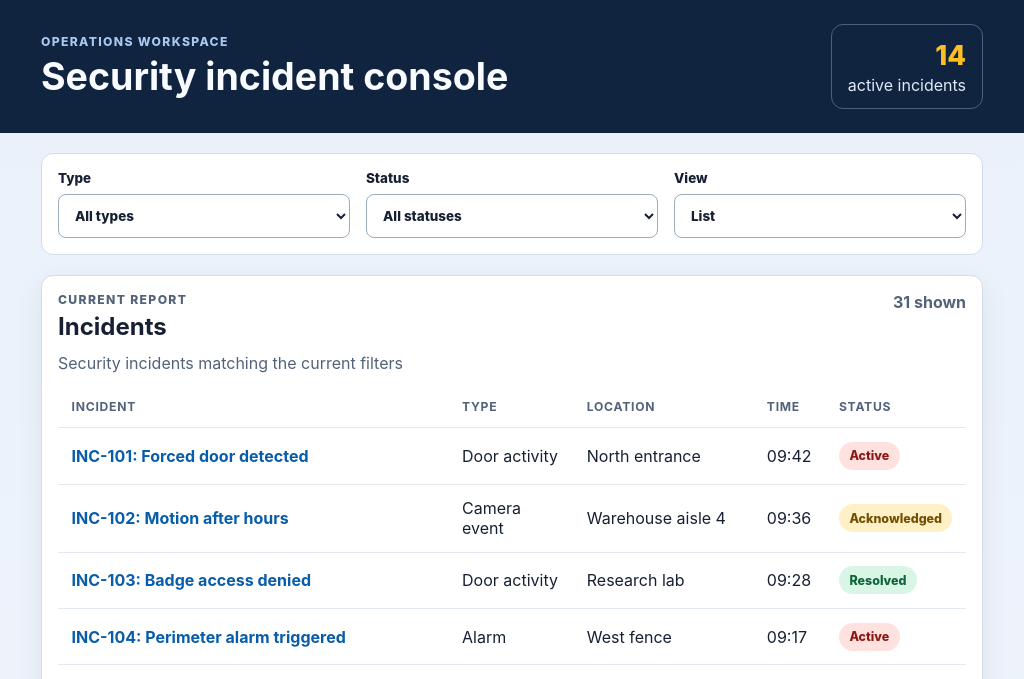
Test case: App › opens incident details and acknowledges an active incident
What coordinates should you click on to do the following:
click the button "INC-101: Forced door detected"
I would click on:
 (190, 456)
Its box is [72,446,308,466].
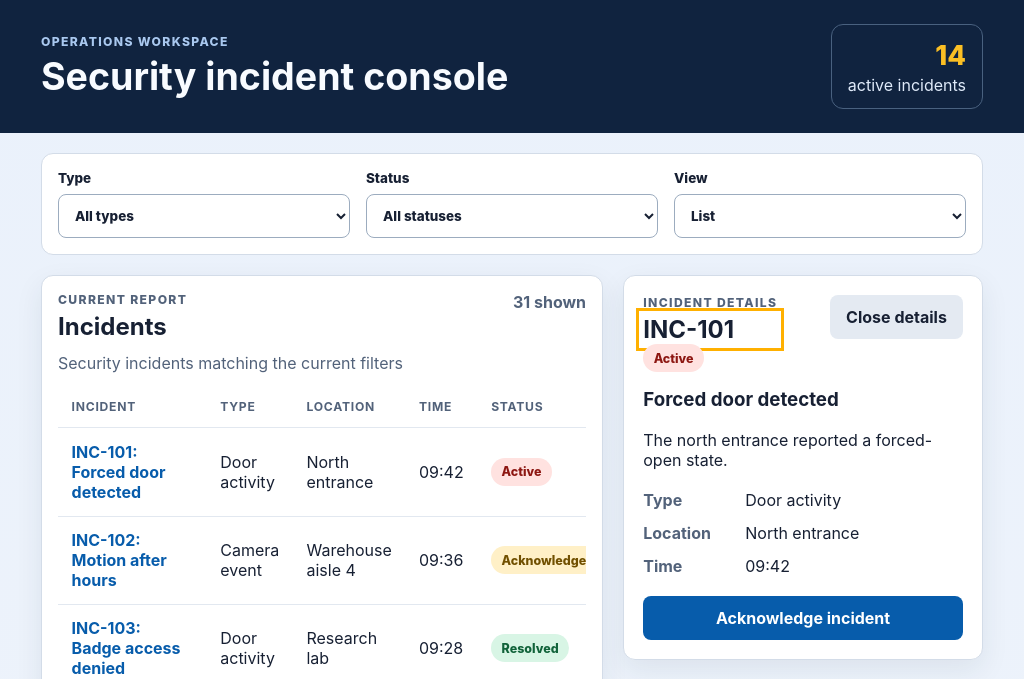
Expected: the heading "INC-101" is shown, [643,315,734,344]
What coordinates should you click on to do the following:
click the button "Acknowledge incident"
I would click on:
 (803, 618)
Its box is [643,596,963,640].
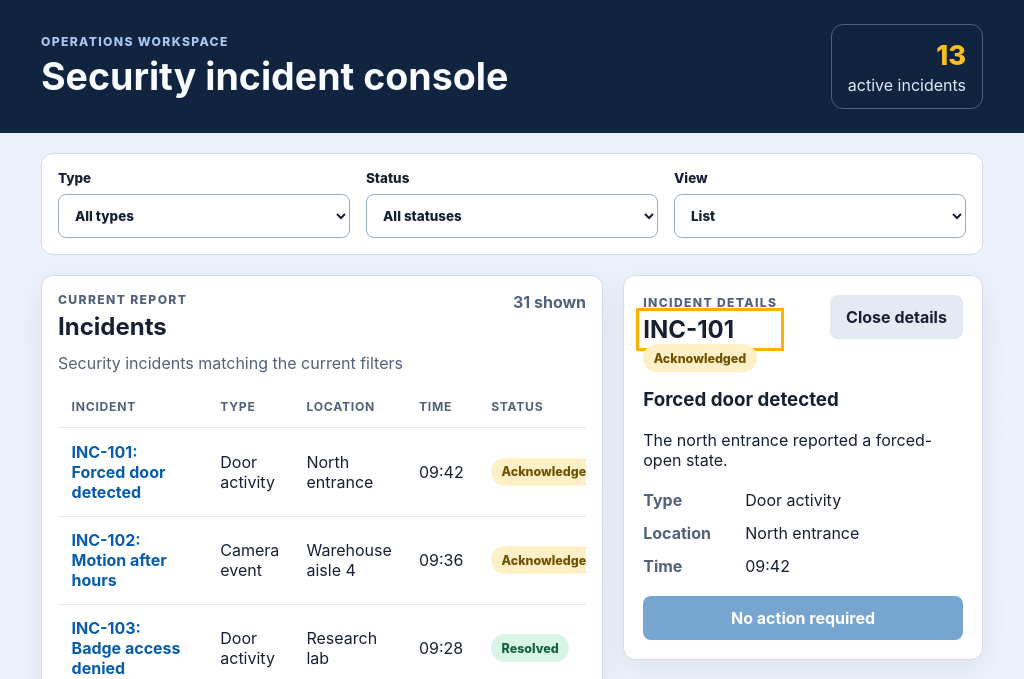
Expected: the button "No action required" is shown, [643,596,963,640]
